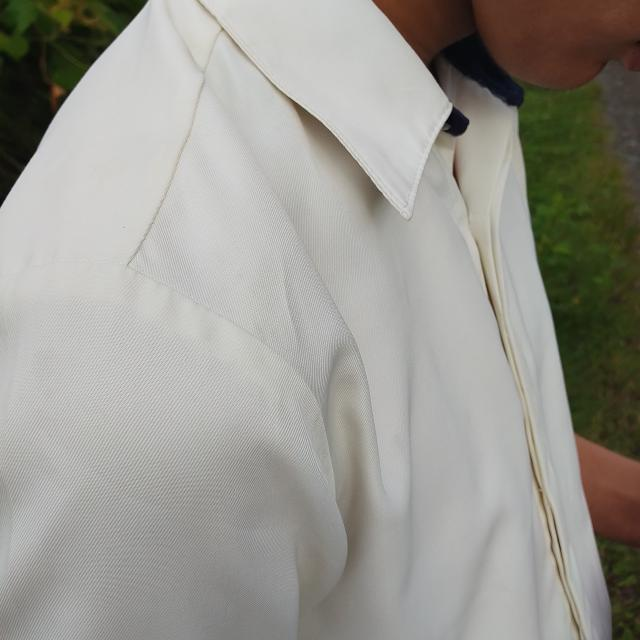education_male_uniform: (2, 0, 630, 640)
